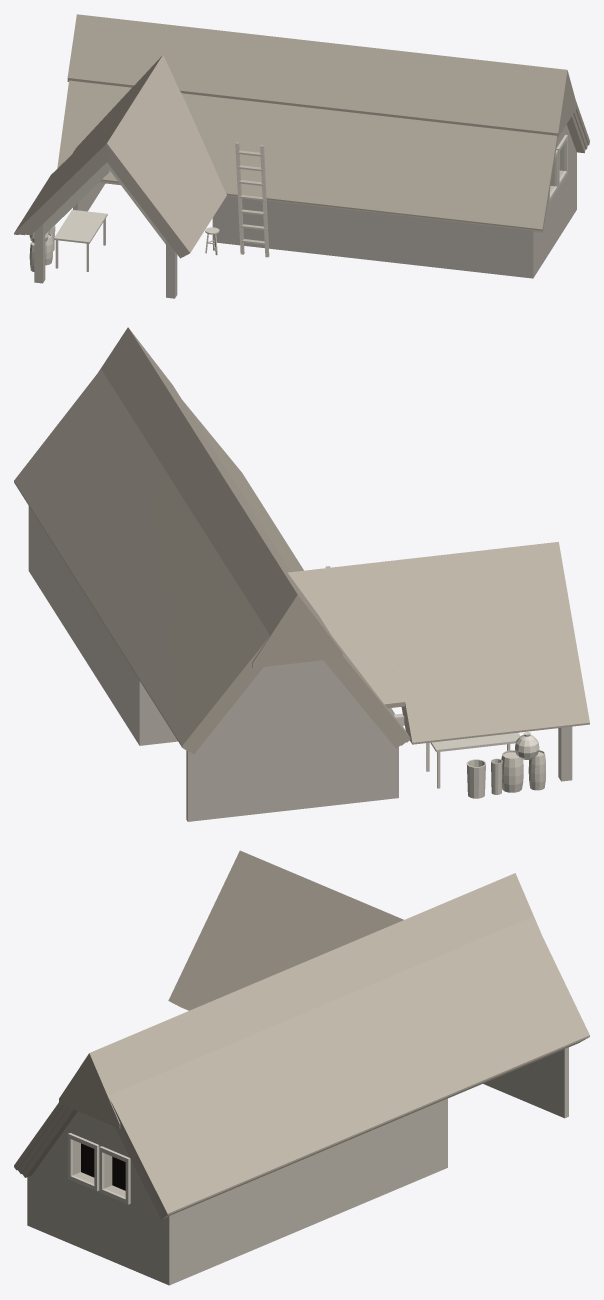
Rendered from griswolds-forge_clay.glb.
The picture shows the model from 3 angles, top to bottom: view 1: azimuth 30°, elevation 25°; view 2: azimuth 150°, elevation 25°; view 3: azimuth 270°, elevation 25°; orthographic projection. The views are drawn at different scales.
Visible parts, largest first — view 1: roofs, walls, frames; view 2: roofs, walls, frames; view 3: roofs, walls, frames, openings.
Part boxes in pixels (x1,y1,x2,y2): roofs: (14,14,589,258); walls: (34,124,576,298); frames: (29,134,567,271); roofs: (14,327,589,754); walls: (28,506,572,821); frames: (394,713,545,798); roofs: (14,850,589,1219); walls: (27,1047,568,1285); frames: (68,1133,130,1204); openings: (81,1143,125,1190).
Size of the model in its own units: 12.69 by 4.15 by 10.44.
